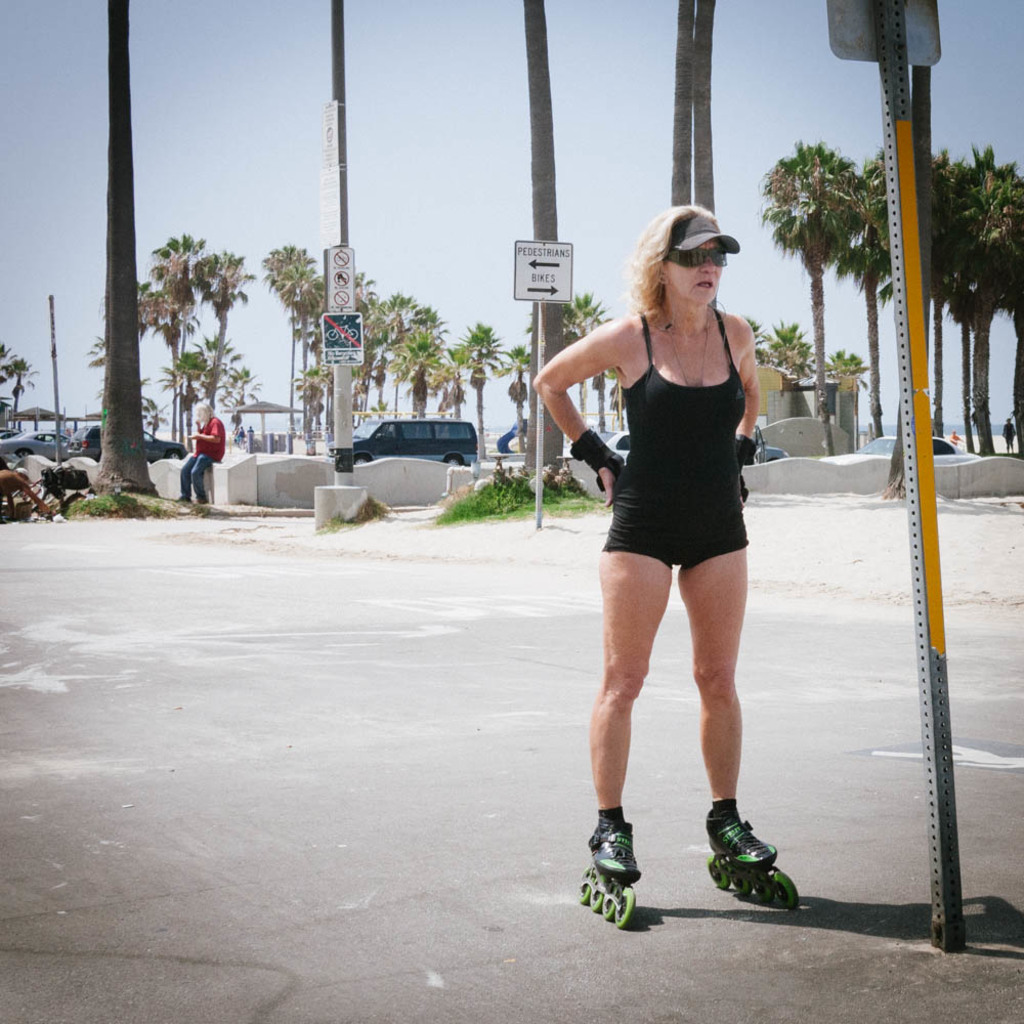Tree: (762, 139, 1024, 450), (86, 0, 154, 492), (887, 65, 933, 488), (525, 0, 559, 470), (355, 275, 449, 415), (260, 241, 315, 436), (153, 234, 203, 439), (198, 244, 253, 406), (272, 263, 321, 439), (448, 320, 509, 455), (568, 290, 606, 426), (670, 0, 695, 202), (825, 346, 869, 442), (697, 0, 717, 210), (496, 344, 529, 447), (766, 317, 818, 377), (2, 359, 36, 405), (747, 316, 760, 359)
